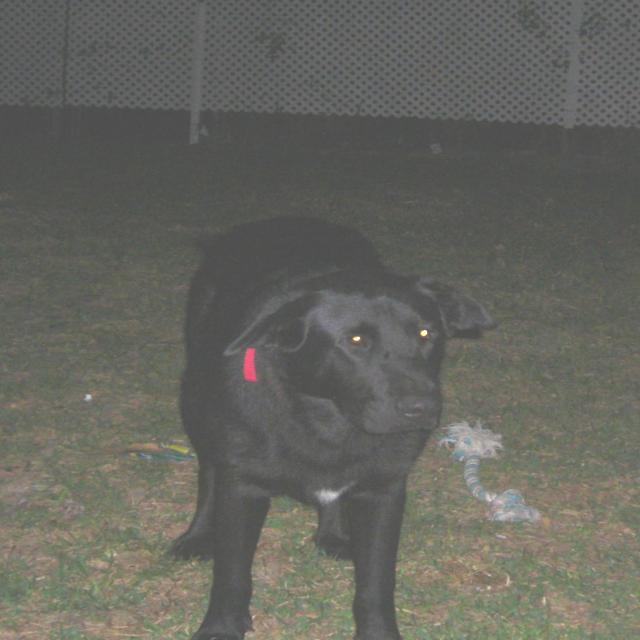Dog: (85, 174, 588, 640)
